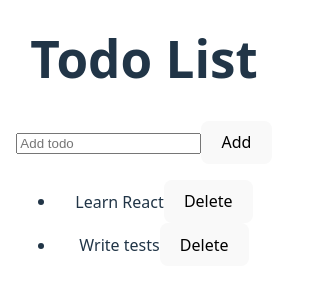
Test: TodoList Component › adds a new todo
Type "New Todo" into the field with test id "todo-input" at (109, 144), box [16, 133, 201, 154]
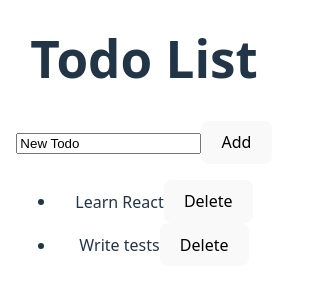
Click the button "Add" at (237, 142), box [201, 121, 272, 164]
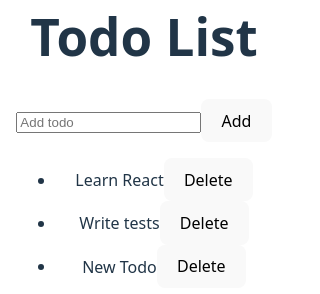
Result: the text "New Todo" is shown at [82, 255, 157, 277]
